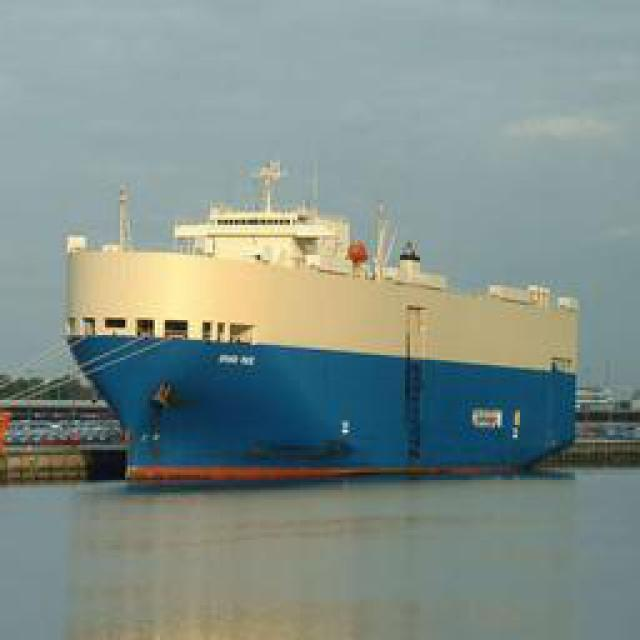Ship: (52, 186, 582, 471)
